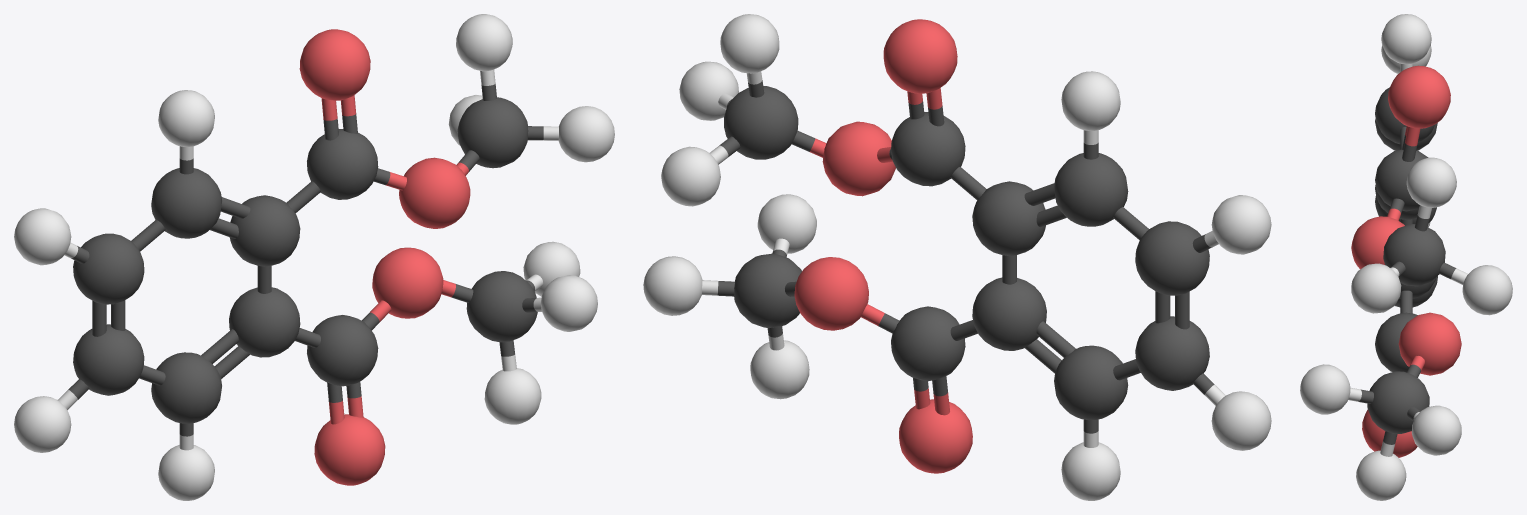
The model's file is 08_Benceno.fbx.
3 renders of one model, left to right at view 1: azimuth 30°, elevation 25°; view 2: azimuth 150°, elevation 25°; view 3: azimuth 270°, elevation 25°, orthographic. The views are drawn at different scales.
Parts seen in each view (by area): view 1: m_benceno_v.002; view 2: m_benceno_v.002; view 3: m_benceno_v.002.
Part boxes in pixels (x1,y1,x2,y2): m_benceno_v.002: (14, 14, 614, 500); m_benceno_v.002: (643, 14, 1271, 500); m_benceno_v.002: (1300, 14, 1512, 500).
Bounding box in the file's own units: 1856 × 1351 × 674.
